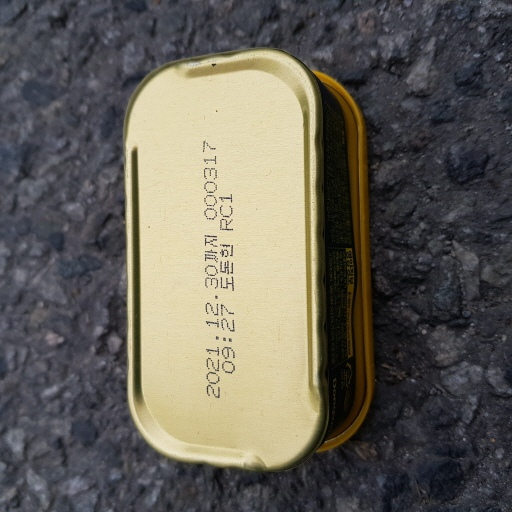Metal_2: (117, 46, 375, 472)
